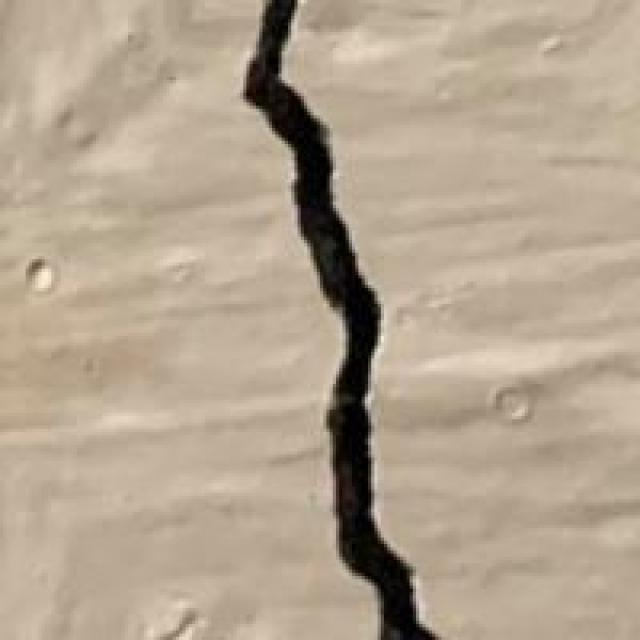Crack: (172, 0, 458, 637)
